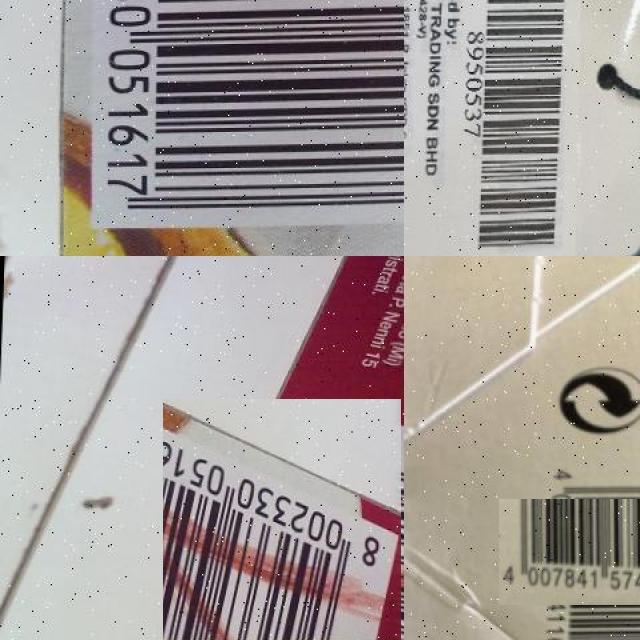Barcode: (91, 0, 405, 230), (162, 400, 403, 640), (454, 0, 574, 256), (516, 482, 640, 623)
